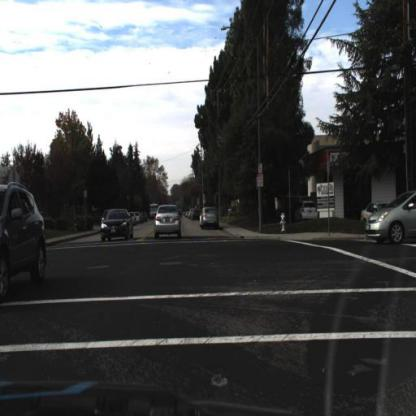car: (1, 181, 48, 308), (355, 188, 416, 260), (151, 200, 187, 247), (98, 205, 135, 248), (296, 194, 323, 229), (197, 203, 223, 234)
